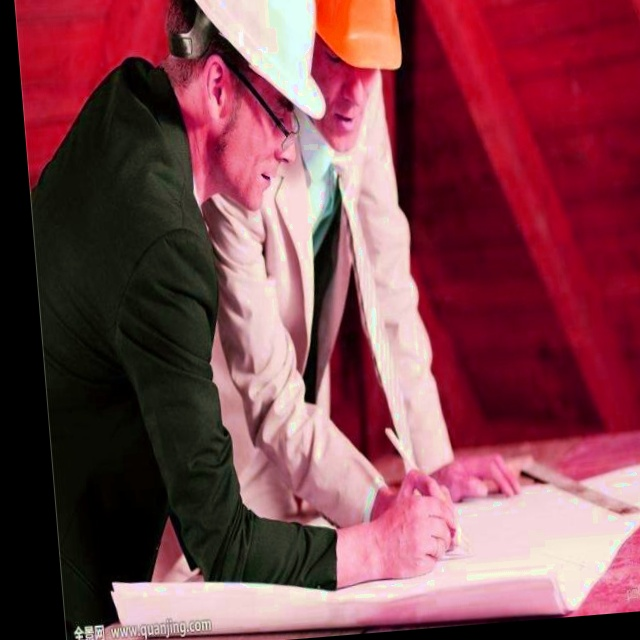Con_Casco: (157, 0, 336, 211)
